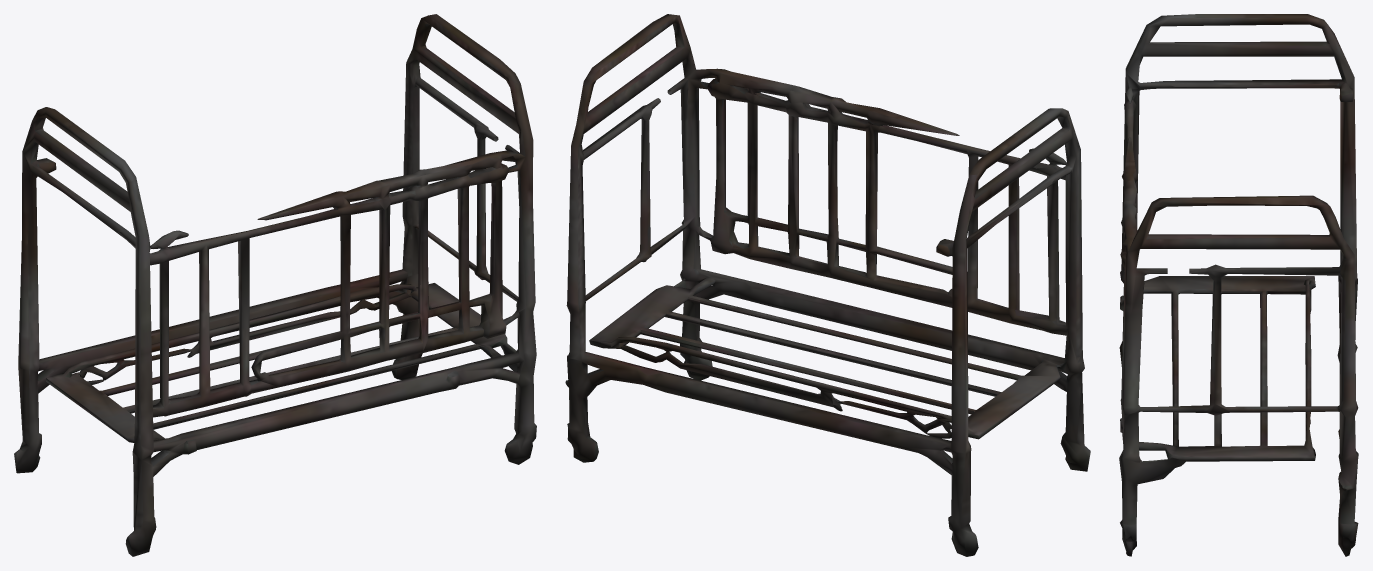
Rendered from old-iron-asylum-bed-v001.glb.
The picture shows the model from 3 angles, left to right: view 1: azimuth 30°, elevation 25°; view 2: azimuth 150°, elevation 25°; view 3: azimuth 270°, elevation 25°; orthographic projection. The views are drawn at different scales.
Parts seen in each view (by area): view 1: old-iron-asylum-bed; view 2: old-iron-asylum-bed; view 3: old-iron-asylum-bed.
Part boxes in pixels (bbox=[...]): old-iron-asylum-bed: bbox=[14, 14, 536, 556]; old-iron-asylum-bed: bbox=[565, 14, 1090, 556]; old-iron-asylum-bed: bbox=[1119, 14, 1358, 556].
Size of the model in its own units: 1.46 by 1.29 by 0.7677.
Materials: 1 (1 with a texture image).
